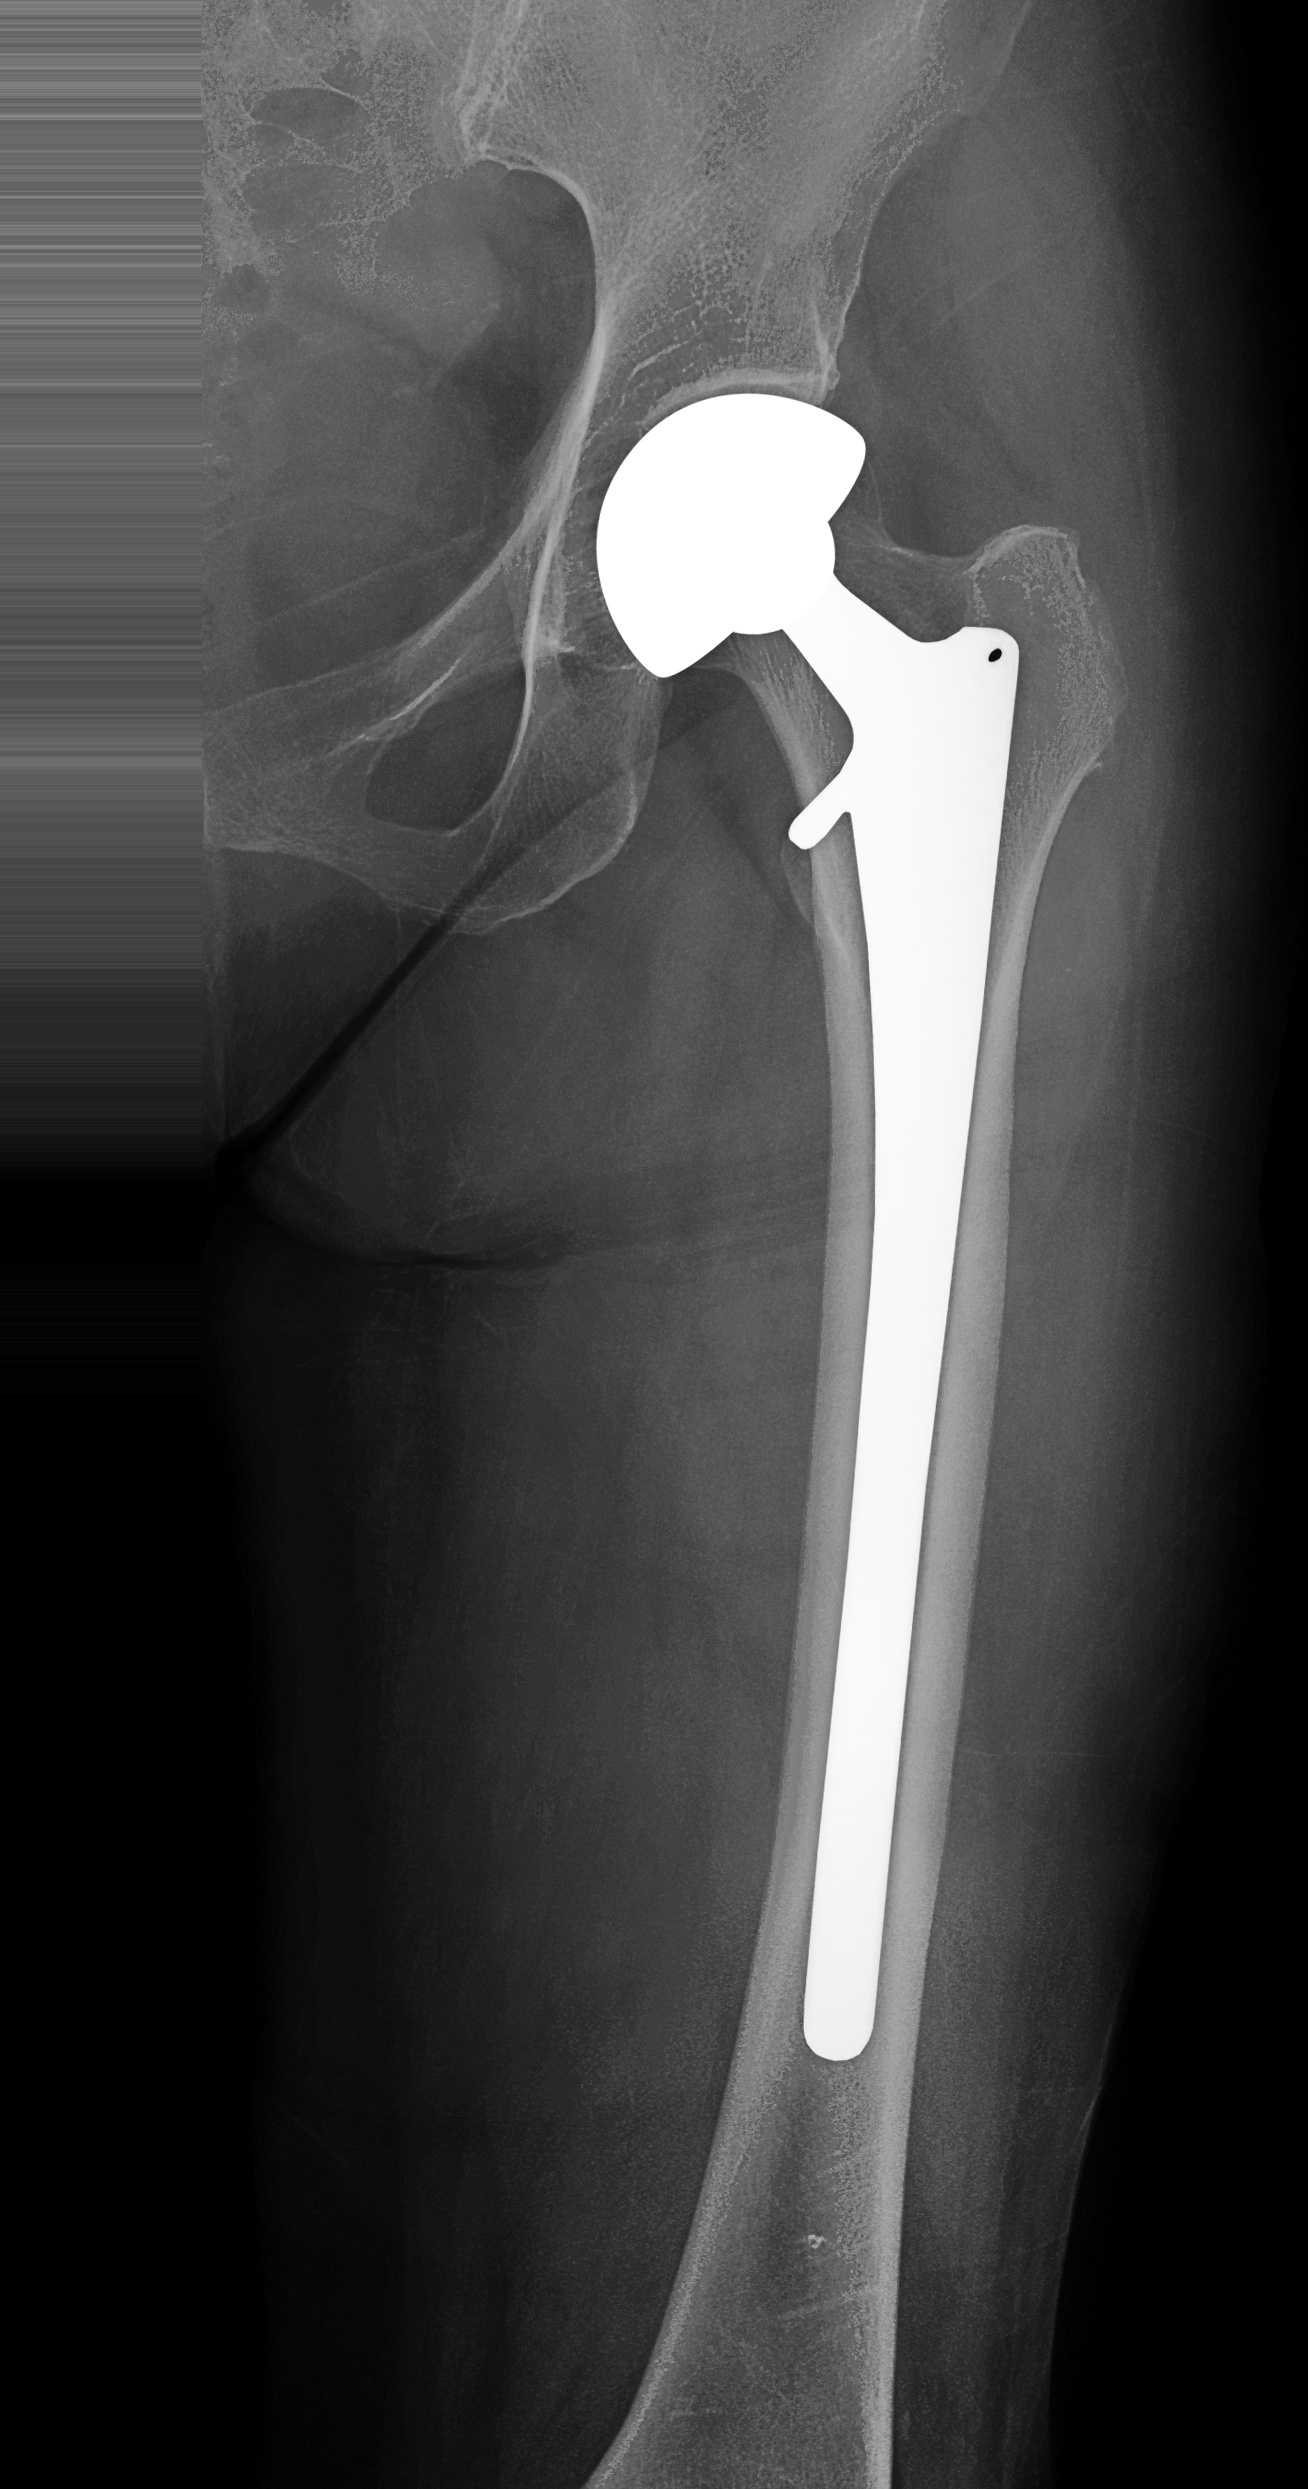Hip - Bias - Zimmer: (495, 309, 1096, 2183)
